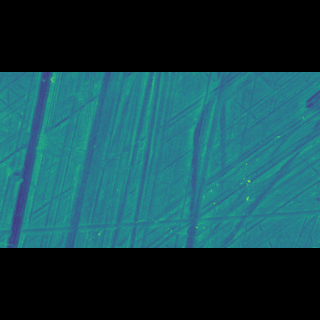Loch: (0, 139, 320, 186), (0, 186, 320, 203)
